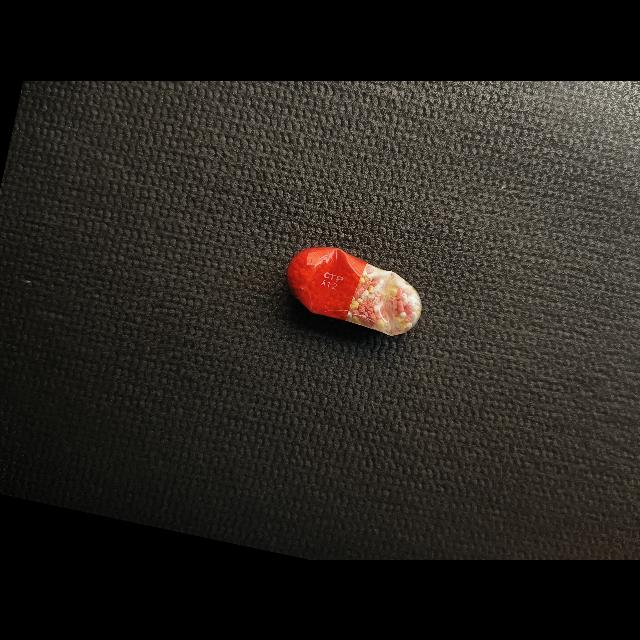Defective Capsule: (287, 247, 422, 335)
